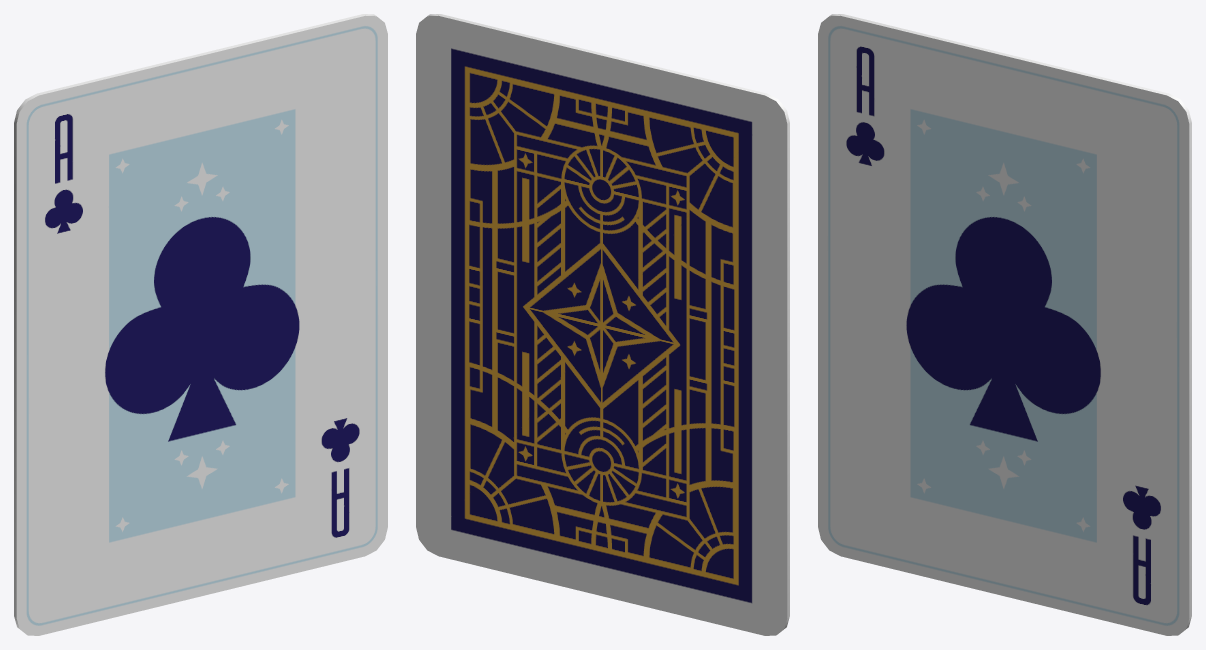
File: card_clubs_ace.obj
3 renders of one model, left to right at view 1: azimuth 30°, elevation 25°; view 2: azimuth 150°, elevation 25°; view 3: azimuth 330°, elevation 25°, orthographic.
Visible parts, largest first — view 1: card_clubs_ace; view 2: card_clubs_ace; view 3: card_clubs_ace.
Boxes of the visible parts, box(x1,y1,x2,y2) form: card_clubs_ace: box(14, 14, 387, 635); card_clubs_ace: box(416, 14, 789, 635); card_clubs_ace: box(818, 14, 1191, 635).
Bounding box in the file's own units: 4.31 × 6 × 0.05.
Materials: 2 (2 with a texture image).
